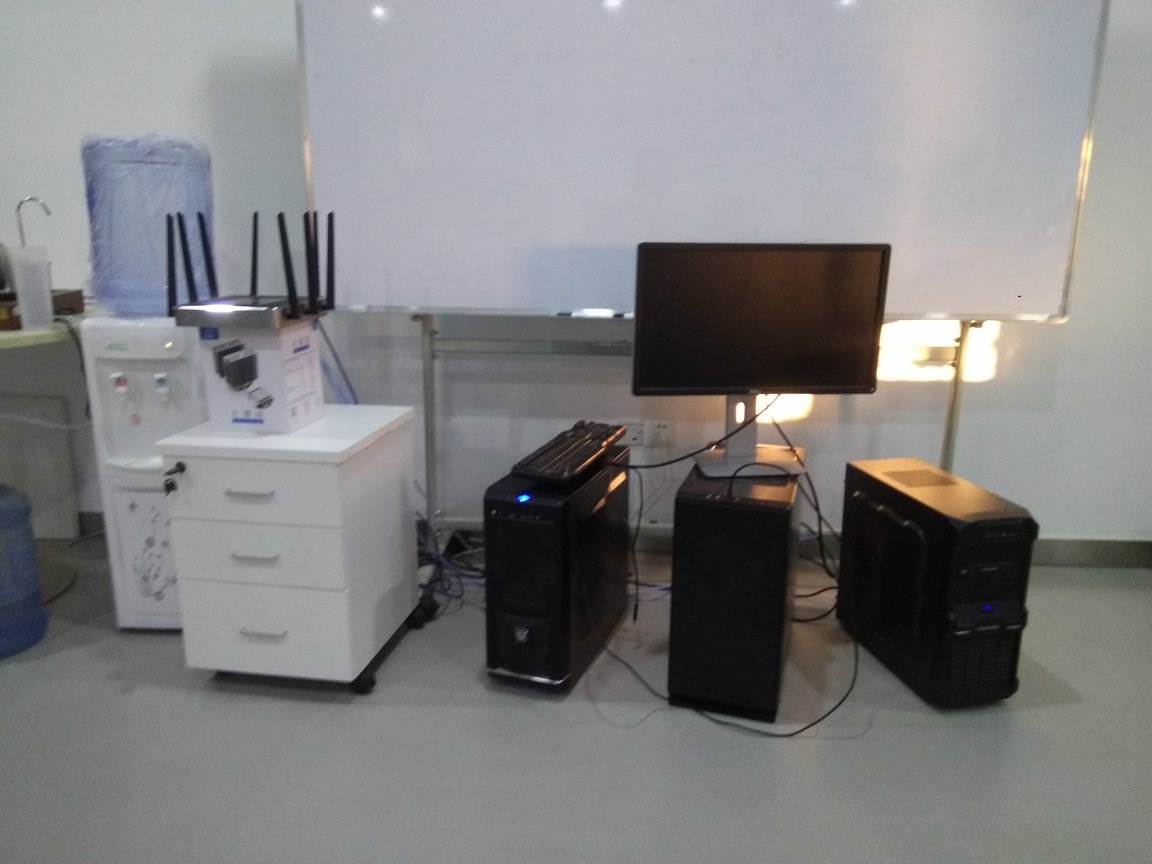computer: (845, 460, 1029, 724), (481, 441, 638, 711), (675, 438, 800, 729)
drawer chest: (170, 396, 440, 694)
monitor: (635, 230, 883, 483)
scuttlebutt: (76, 129, 233, 322), (1, 476, 61, 657)
water dispenser: (72, 297, 241, 641)
